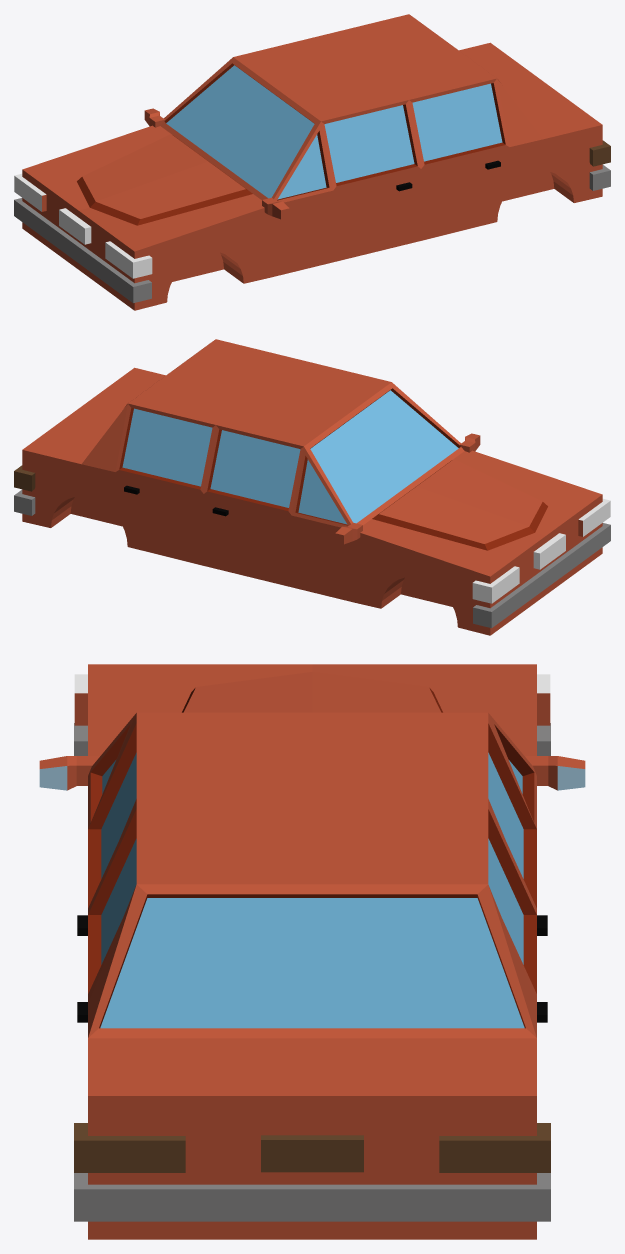
The model's file is car.fbx.
The picture shows the model from 3 angles, top to bottom: view 1: azimuth 30°, elevation 25°; view 2: azimuth 150°, elevation 25°; view 3: azimuth 270°, elevation 25°; orthographic projection. The views are drawn at different scales.
Visible parts, largest first — view 1: car; view 2: car; view 3: car.
Boxes of the visible parts, x1,y1,x2,y2 form: car: (14,14,610,310); car: (14,339,610,635); car: (39,664,585,1239).
Size of the model in its own units: 42.71 by 11.24 by 21.06.
